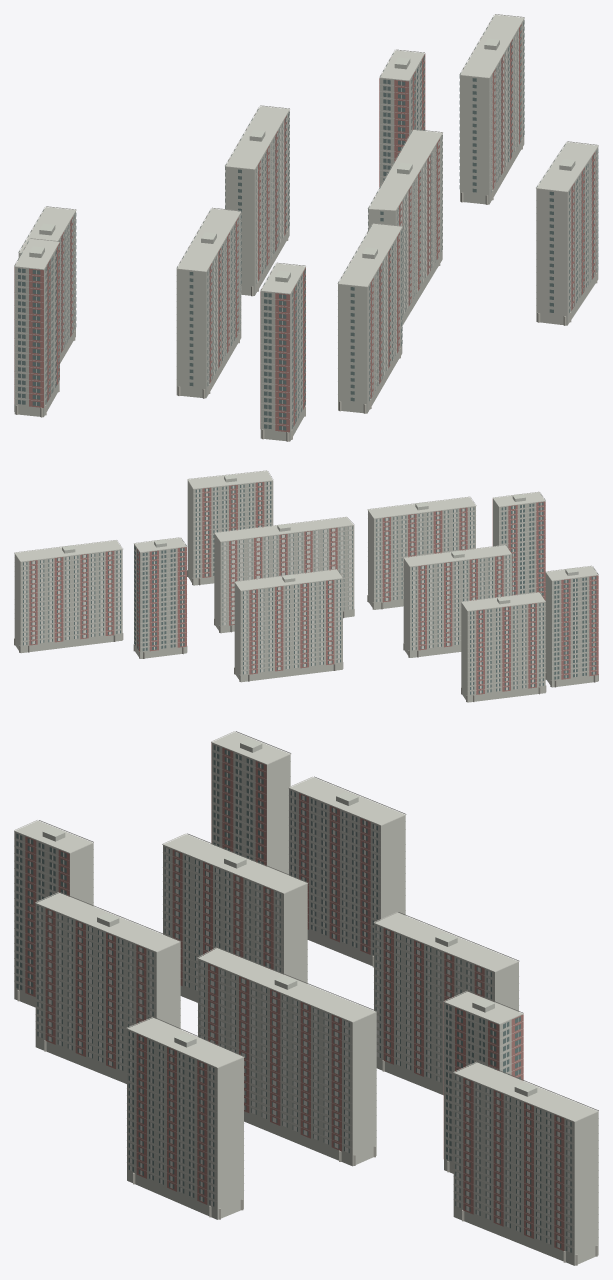
File: representative-a14381415.glb
3 renders of one model, top to bottom at view 1: azimuth 30°, elevation 25°; view 2: azimuth 150°, elevation 25°; view 3: azimuth 270°, elevation 25°, orthographic. The views are drawn at different scales.
Visible parts, largest first — view 1: A14381415_wall001, A14381415_glass001, A14381415_trim001, A14381415_accent001, A14381415_roof001, A14381415_base001; view 2: A14381415_wall001, A14381415_trim001, A14381415_glass001, A14381415_accent001, A14381415_roof001, A14381415_base001; view 3: A14381415_wall001, A14381415_trim001, A14381415_accent001, A14381415_glass001, A14381415_roof001.
Boxes of the visible parts, <box> form: A14381415_wall001: <box>14,15,598,441</box>; A14381415_glass001: <box>14,17,598,430</box>; A14381415_trim001: <box>14,14,598,430</box>; A14381415_accent001: <box>14,24,595,432</box>; A14381415_roof001: <box>29,38,575,282</box>; A14381415_base001: <box>14,139,597,441</box>; A14381415_wall001: <box>14,471,598,702</box>; A14381415_trim001: <box>14,470,598,694</box>; A14381415_glass001: <box>23,481,597,694</box>; A14381415_accent001: <box>29,482,598,694</box>; A14381415_roof001: <box>62,474,578,604</box>; A14381415_base001: <box>14,570,598,701</box>; A14381415_wall001: <box>14,732,598,1265</box>; A14381415_trim001: <box>14,731,598,1251</box>; A14381415_accent001: <box>25,743,564,1250</box>; A14381415_glass001: <box>16,745,571,1252</box>; A14381415_roof001: <box>42,738,537,1096</box>.
Bounding box in the file's own units: 295 × 64.8 × 199.
